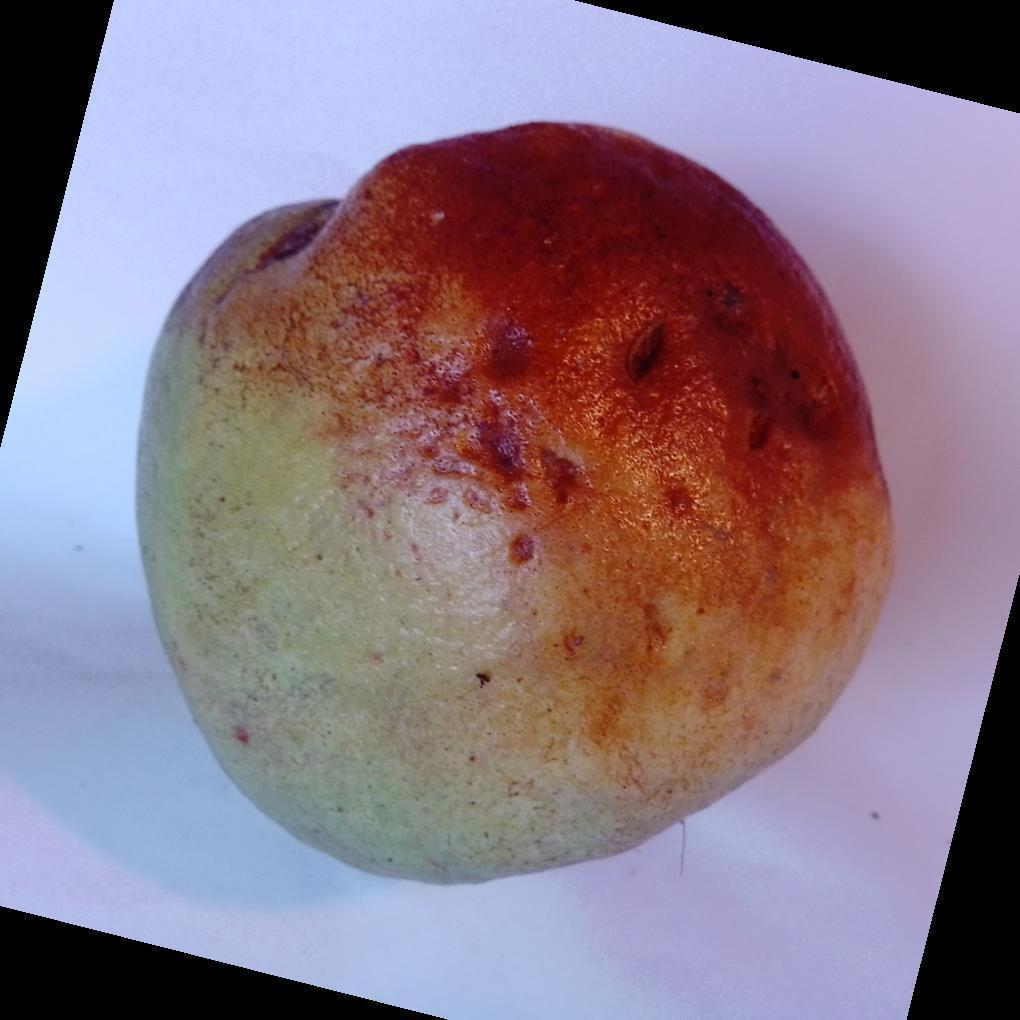FreshOrange: (133, 121, 897, 892)
